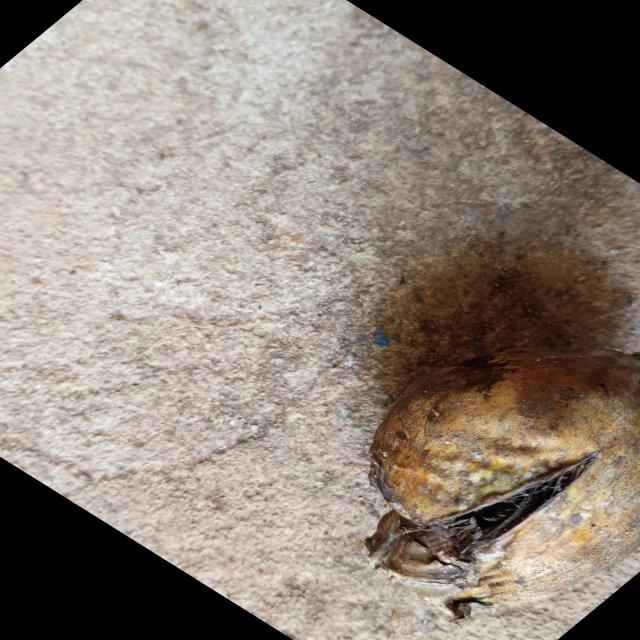damaged: (365, 349, 640, 619)
